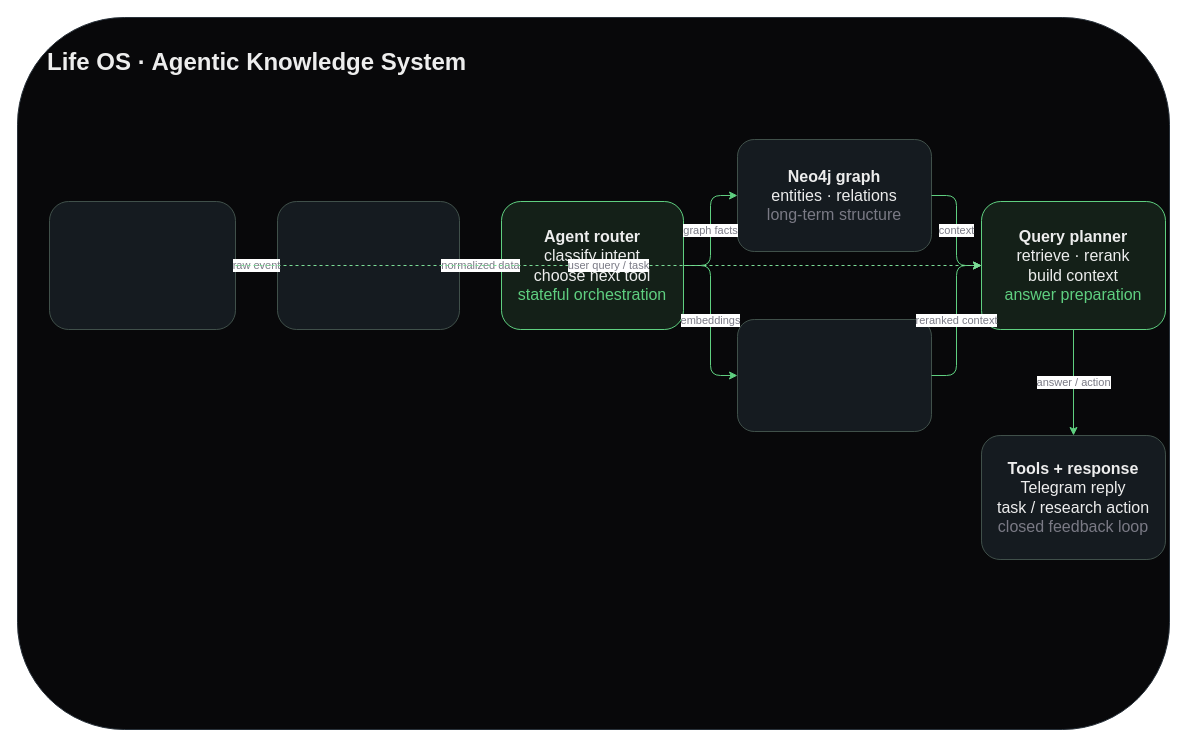
Image size: 1187x747. Some labels were removed from this diagram. Here are the shapes that lost their labels. From the top down, the box of each, then its label:
(48, 200, 236, 330): Sources Telegram Notes / tasks capture surface
(276, 200, 460, 330): Capture agent parse · clean · tag extract entities event normalization
(736, 318, 932, 432): Qdrant index semantic vectors similarity retrieval
